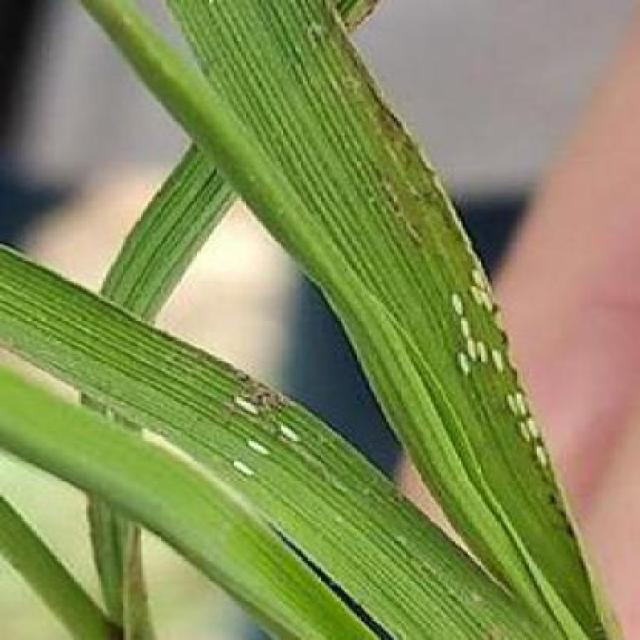whorl-maggot: (279, 417, 316, 460), (228, 391, 268, 423), (239, 434, 278, 466), (445, 348, 470, 384), (509, 388, 537, 419), (490, 345, 512, 380), (226, 462, 260, 483), (520, 417, 548, 440), (532, 447, 560, 470), (445, 291, 470, 315), (473, 334, 490, 368), (472, 266, 496, 289), (455, 318, 479, 340), (478, 291, 494, 315)
